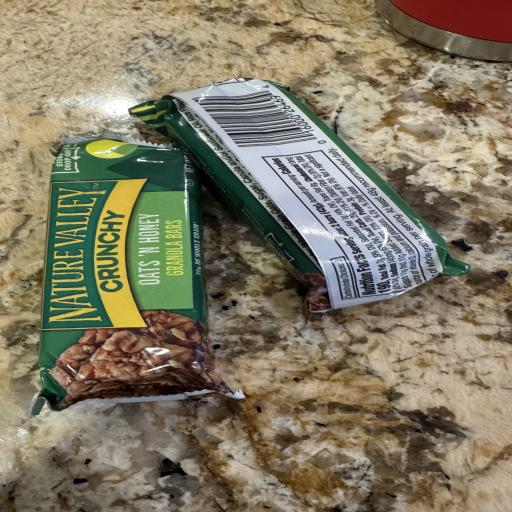granola: (130, 79, 469, 310), (32, 136, 242, 413)
